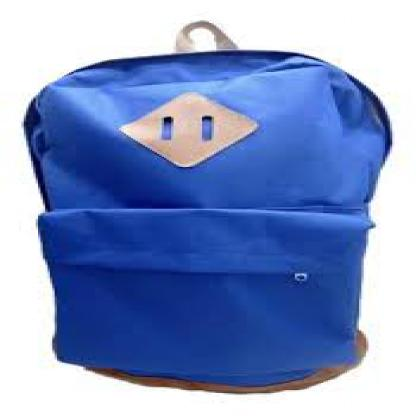morral: (19, 13, 409, 399)
